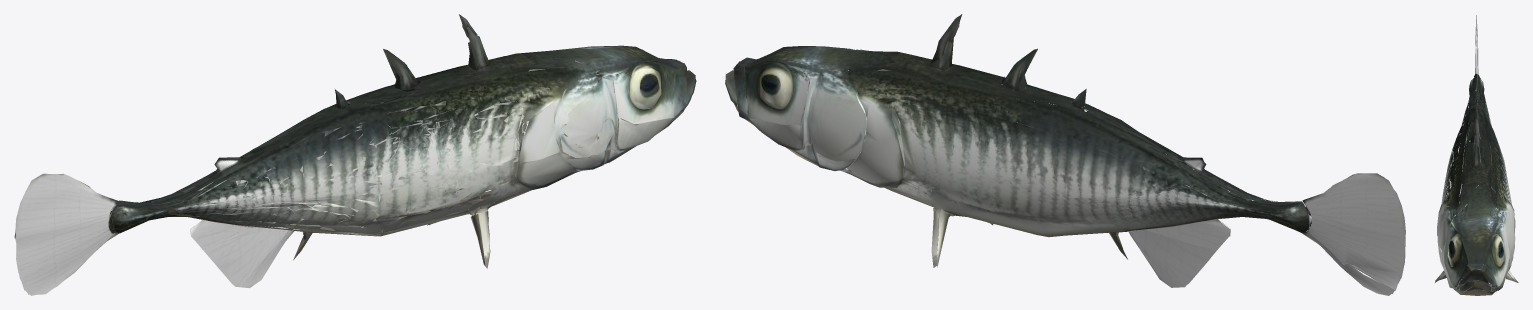
The model's file is three_spined_stickleback.glb.
The picture shows the model from 3 angles, left to right: view 1: azimuth 30°, elevation 25°; view 2: azimuth 150°, elevation 25°; view 3: azimuth 270°, elevation 25°; orthographic projection. The views are drawn at different scales.
Parts seen in each view (by area): view 1: node_0; view 2: node_0; view 3: node_0.
Part boxes in pixels (x1,y1,x2,y2): node_0: [14, 14, 696, 295]; node_0: [725, 14, 1405, 295]; node_0: [1435, 15, 1518, 295].
Size of the model in its own units: 1.2 by 0.3942 by 0.183.
1 material, 1 textured.
